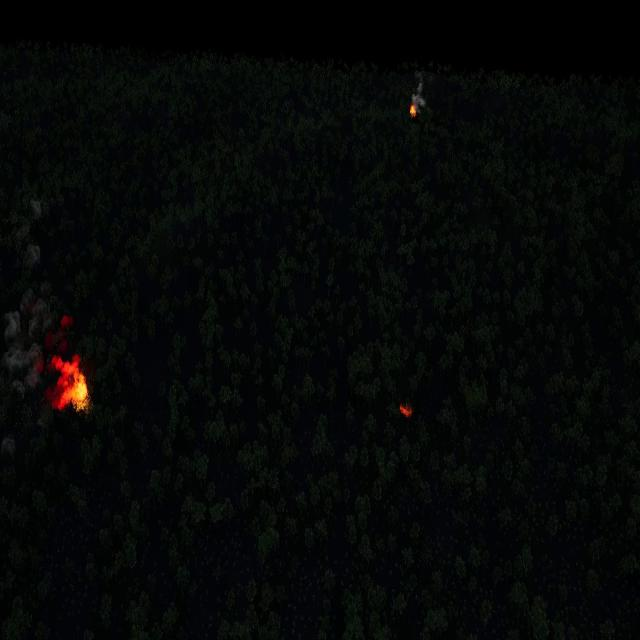fire: (53, 356, 89, 412), (398, 404, 411, 420), (411, 105, 418, 117)
smoke: (0, 195, 73, 399), (413, 69, 432, 107), (0, 434, 15, 458), (30, 199, 44, 219)
